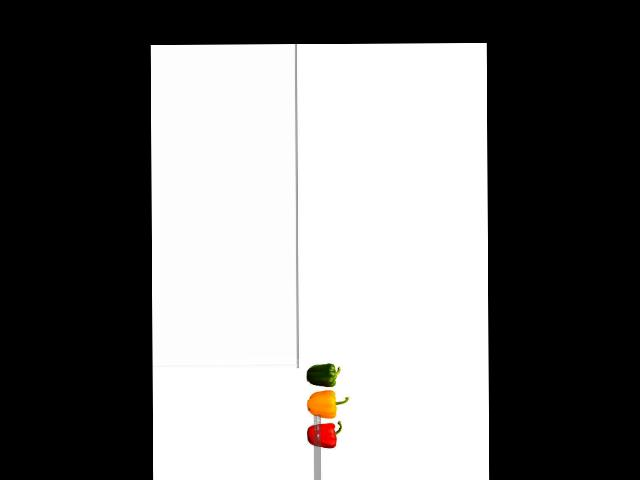bell_pepper: (304, 360, 345, 386)
